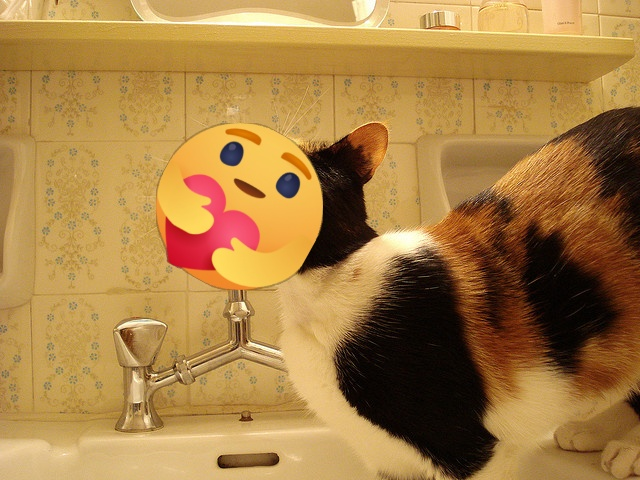care: (156, 123, 323, 290)
